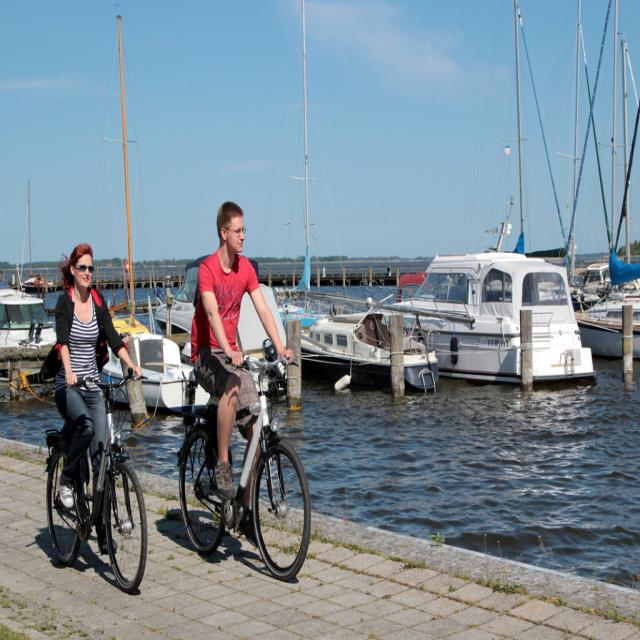Boat: (98, 25, 209, 423), (380, 222, 603, 390), (577, 0, 640, 363), (300, 299, 443, 395), (0, 281, 59, 379), (153, 251, 213, 334)
